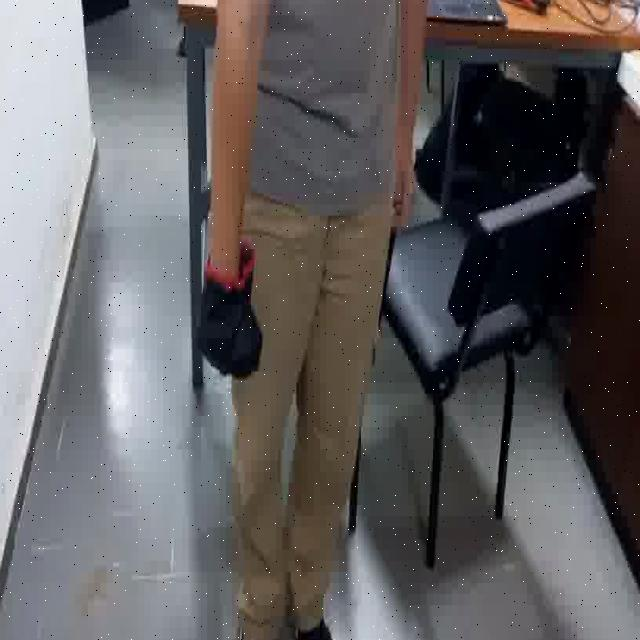Gloves: (193, 242, 267, 376)
